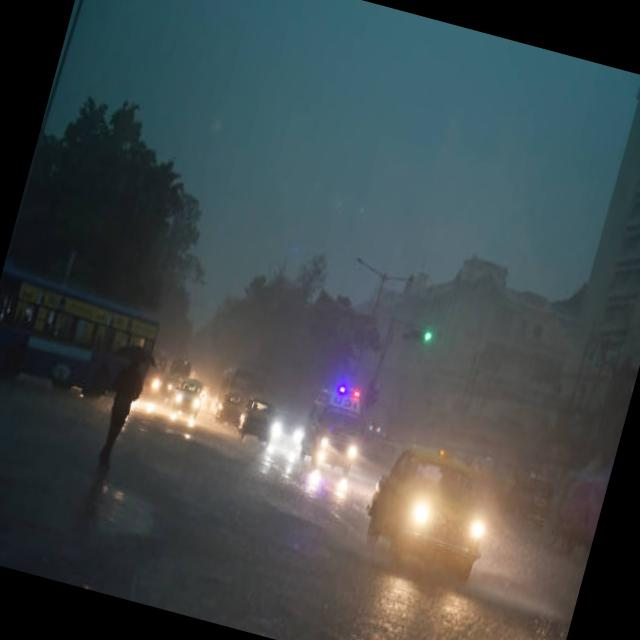ambulance: (288, 372, 374, 489), (327, 384, 362, 415)
